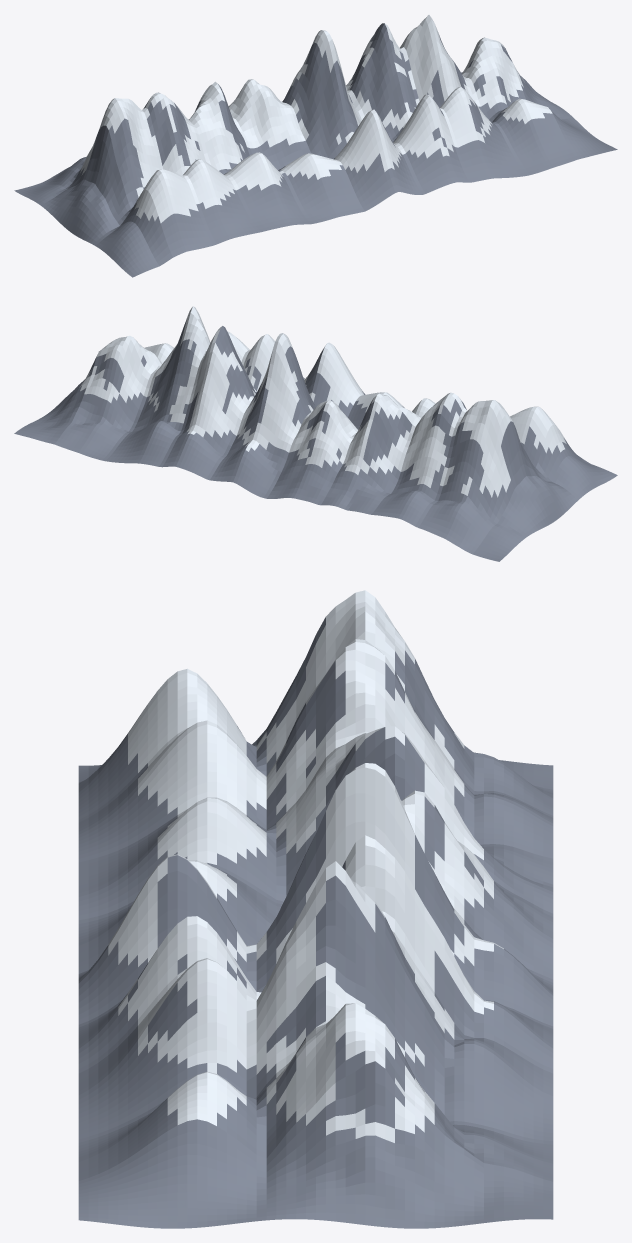
Rendered from Ridge4.fbx.
3 renders of one model, top to bottom at view 1: azimuth 30°, elevation 25°; view 2: azimuth 150°, elevation 25°; view 3: azimuth 270°, elevation 25°, orthographic. The views are drawn at different scales.
Visible parts, largest first — view 1: LayeredAlpineRidge; view 2: LayeredAlpineRidge; view 3: LayeredAlpineRidge.
Boxes of the visible parts, box(x1,y1,x2,y2) form: LayeredAlpineRidge: box(14, 15, 617, 277); LayeredAlpineRidge: box(14, 306, 617, 561); LayeredAlpineRidge: box(78, 590, 553, 1228).
Size of the model in its own units: 1700 by 434 by 720.
